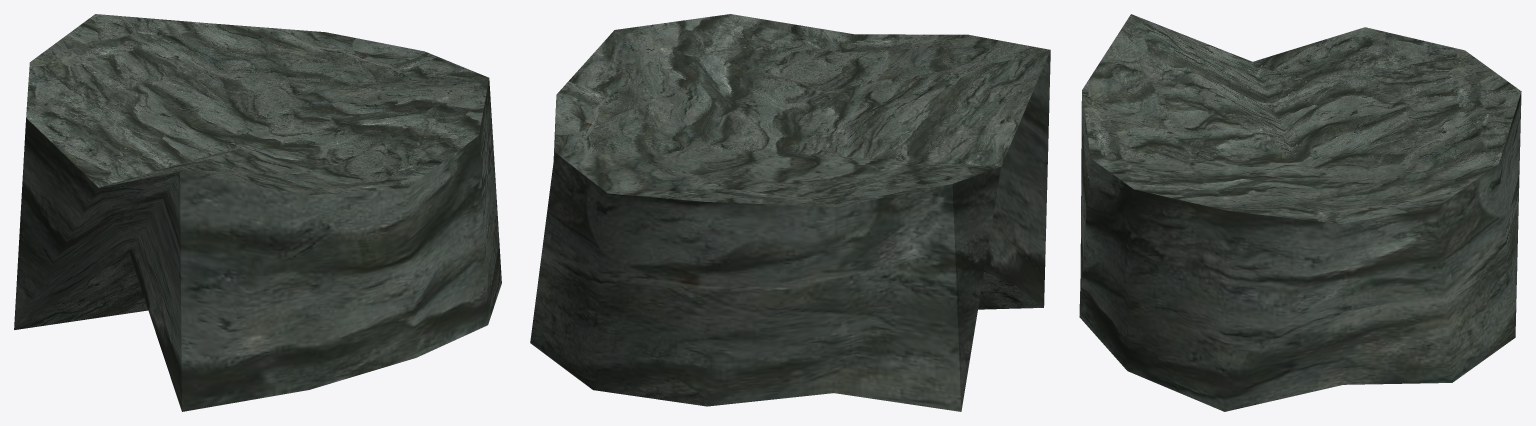
Rendered from rock_6.glb.
3 renders of one model, left to right at view 1: azimuth 30°, elevation 25°; view 2: azimuth 150°, elevation 25°; view 3: azimuth 270°, elevation 25°, orthographic. The views are drawn at different scales.
Visible parts, largest first — view 1: 6-512 (×2); view 2: 6-512 (×2); view 3: 6-512 (×2).
Part boxes in pixels (x1,y1,x2,y2): 6-512 (×2): (14,14,501,411); 6-512 (×2): (530,14,1050,411); 6-512 (×2): (1079,14,1521,411).
Size of the model in its own units: 10.06 by 5.67 by 9.85.
Materials: 1 (1 with a texture image).
